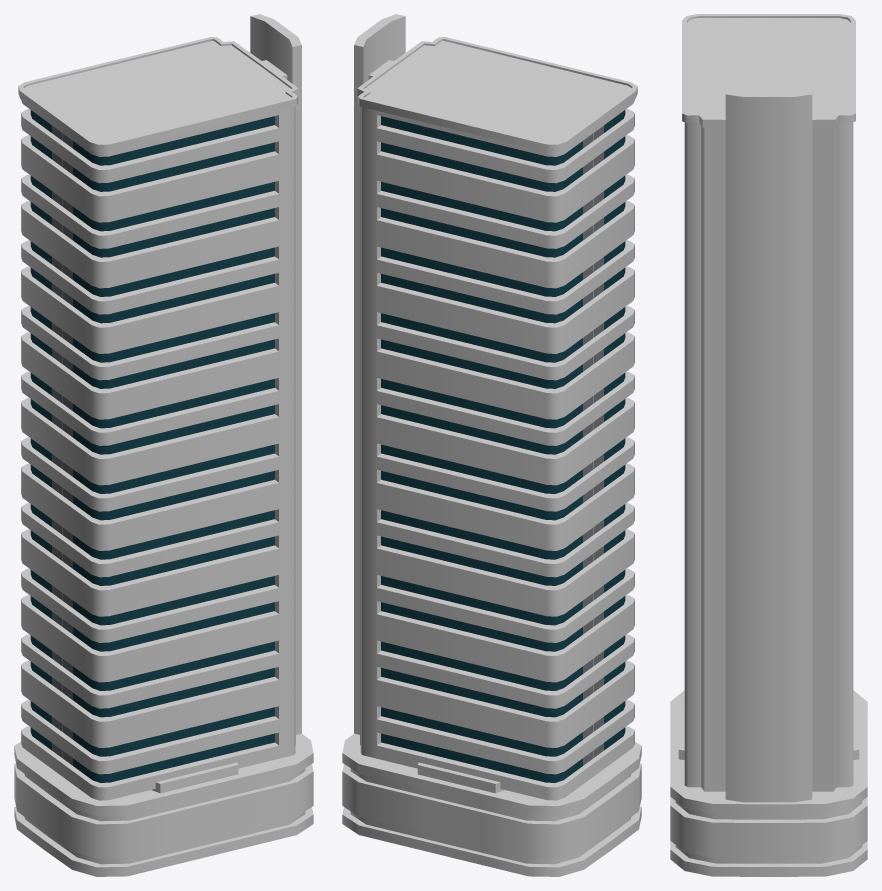
The model's file is Big_building3.fbx.
The picture shows the model from 3 angles, left to right: view 1: azimuth 30°, elevation 25°; view 2: azimuth 150°, elevation 25°; view 3: azimuth 270°, elevation 25°; orthographic projection. The views are drawn at different scales.
Visible parts, largest first — view 1: BigBuilding_3; view 2: BigBuilding_3; view 3: BigBuilding_3.
Boxes of the visible parts, box(x1,y1,x2,y2) form: BigBuilding_3: box(14, 14, 313, 876); BigBuilding_3: box(342, 14, 641, 876); BigBuilding_3: box(670, 14, 867, 876).
Bounding box in the file's own units: 2157 × 6491 × 1487.
